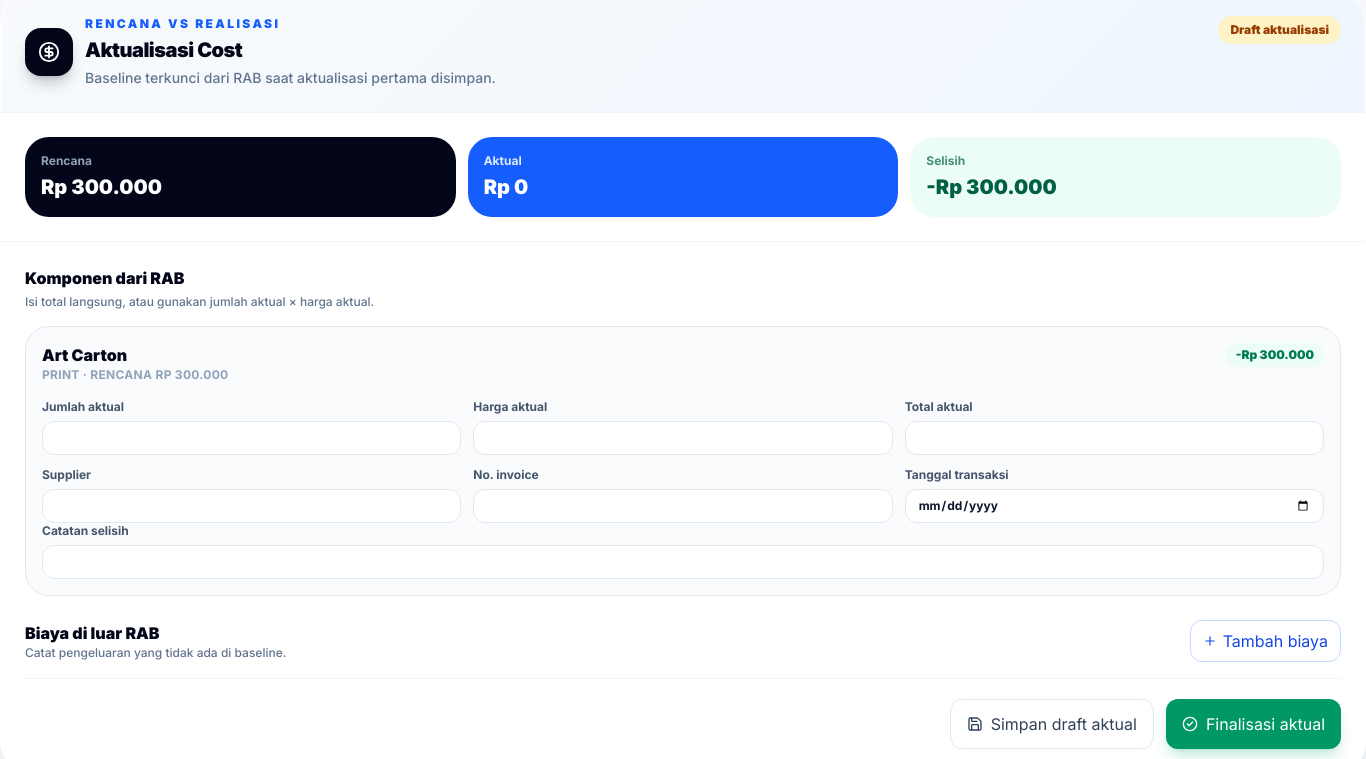
Test case: ActualCostPanel › requires all planned lines before finalization
Click the button "Finalisasi aktual" at [1253, 724], box [1166,699,1341,749]
(page scrolled)
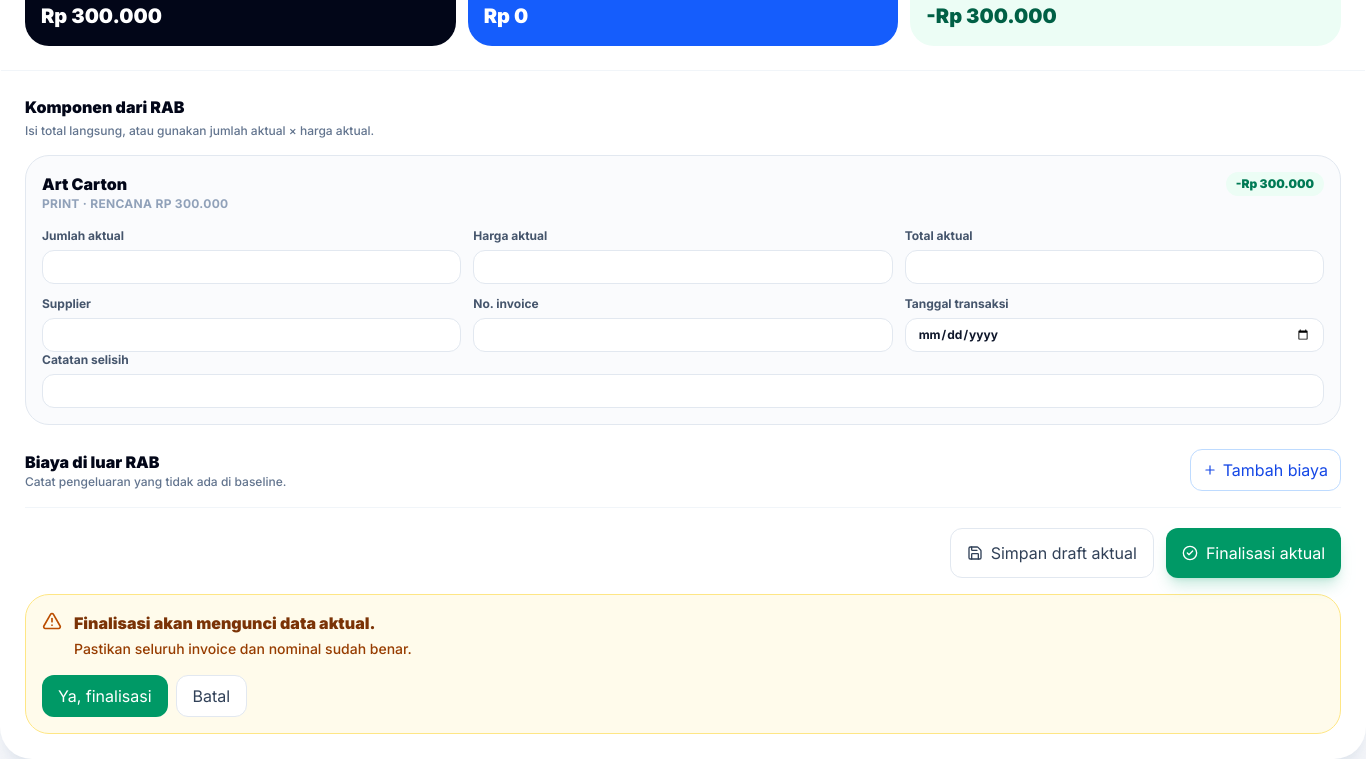
Click the button "Ya, finalisasi" at [105, 696], box [42,675,168,717]
(page scrolled)
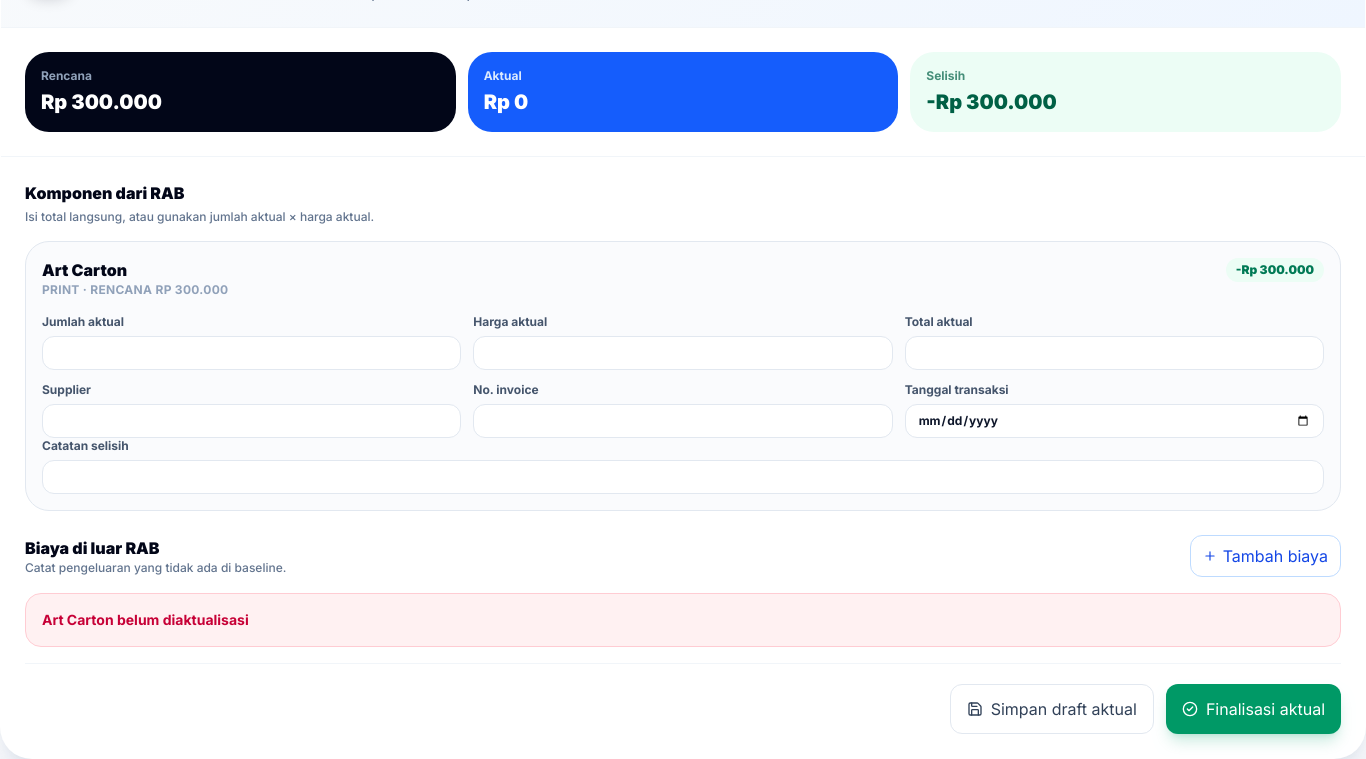
Expected: the list item "Art Carton belum diaktualisasi" is shown, [42,611,249,628]
